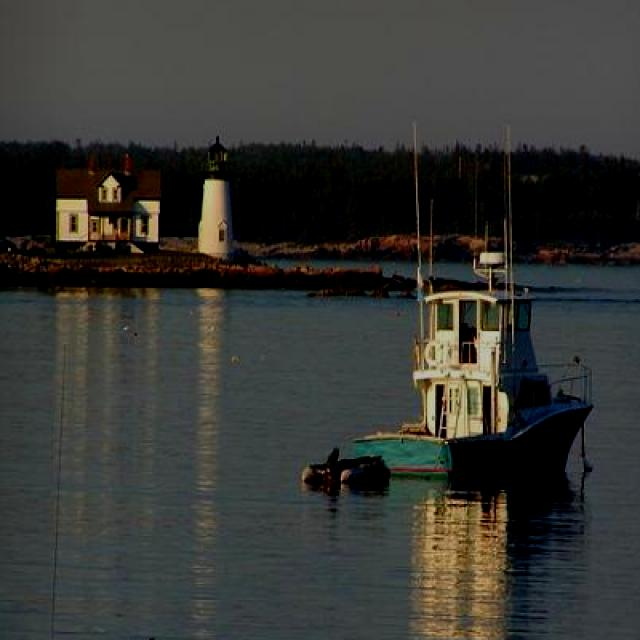ship: (350, 250, 592, 481)
